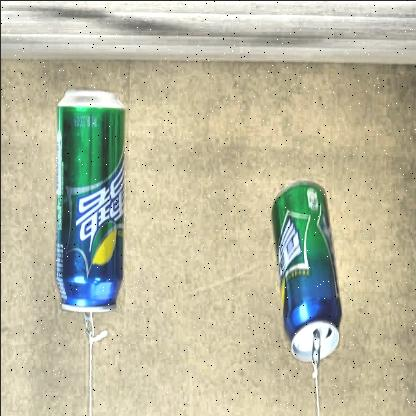Can: (53, 88, 124, 312), (270, 180, 342, 362)
